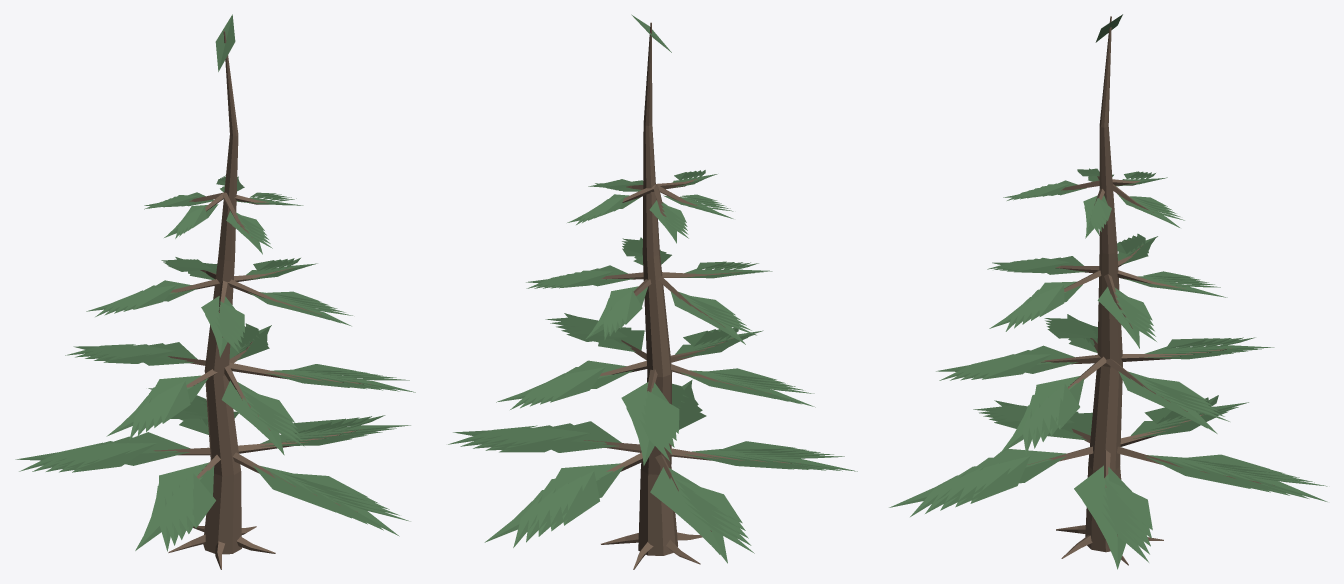
The model's file is hemlock-sapling.glb.
3 renders of one model, left to right at view 1: azimuth 30°, elevation 25°; view 2: azimuth 150°, elevation 25°; view 3: azimuth 270°, elevation 25°, orthographic. The views are drawn at different scales.
Parts seen in each view (by area): view 1: understory_hemlock-sapling_LOD0; view 2: understory_hemlock-sapling_LOD0; view 3: understory_hemlock-sapling_LOD0.
Part boxes in pixels (x1,y1,x2,y2): understory_hemlock-sapling_LOD0: (15, 14, 415, 569); understory_hemlock-sapling_LOD0: (448, 14, 857, 569); understory_hemlock-sapling_LOD0: (889, 14, 1327, 569).
Size of the model in its own units: 1.9 by 2.75 by 2.04.
